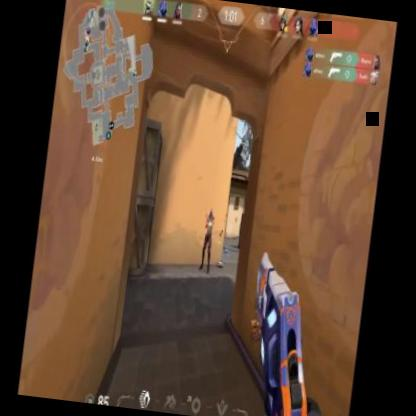enemy: (198, 206, 216, 274)
enemy_head: (209, 206, 212, 216)
